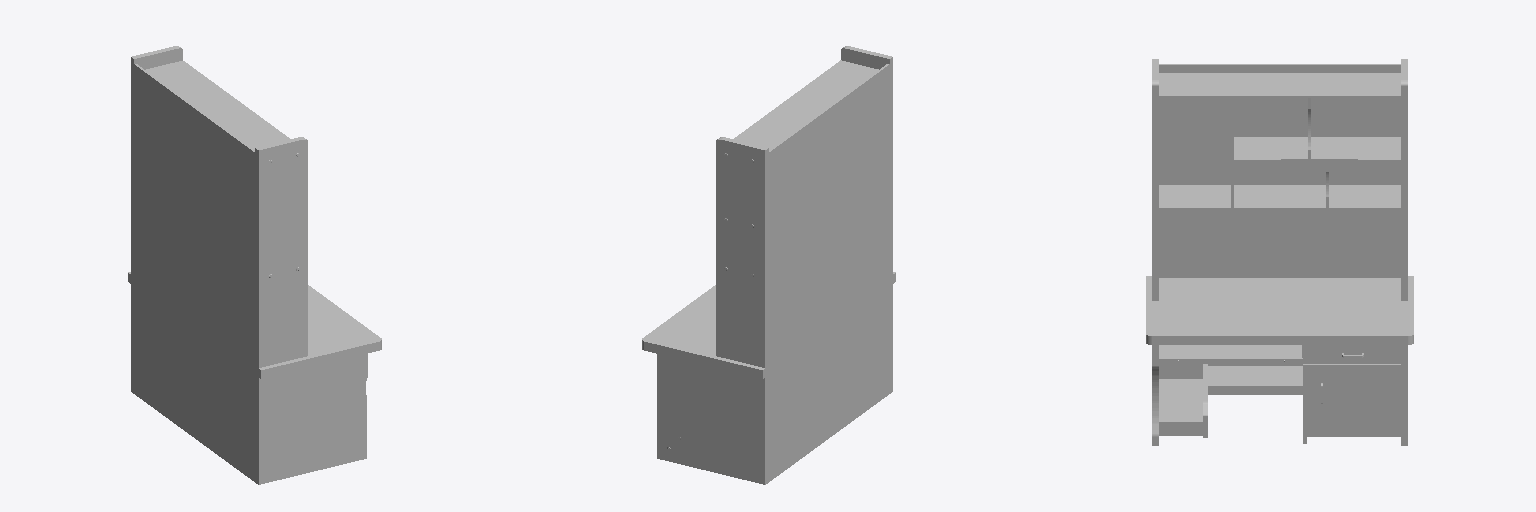
Rendered from library.obj.
3 renders of one model, left to right at view 1: azimuth 30°, elevation 25°; view 2: azimuth 150°, elevation 25°; view 3: azimuth 270°, elevation 25°, orthographic.
Parts seen in each view (by area): view 1: Cube; view 2: Cube; view 3: Cube, Cube.003, Cube.001_Cube.005, Cube.002.
Boxes of the visible parts, box(x1,y1,x2,y2) form: Cube: box(128, 46, 381, 484); Cube: box(642, 46, 895, 484); Cube: box(1146, 59, 1413, 445); Cube.003: box(1303, 364, 1400, 436); Cube.001_Cube.005: box(1159, 345, 1302, 363); Cube.002: box(1303, 345, 1400, 363).
Size of the model in its own units: 3.46 by 9.01 by 6.53.